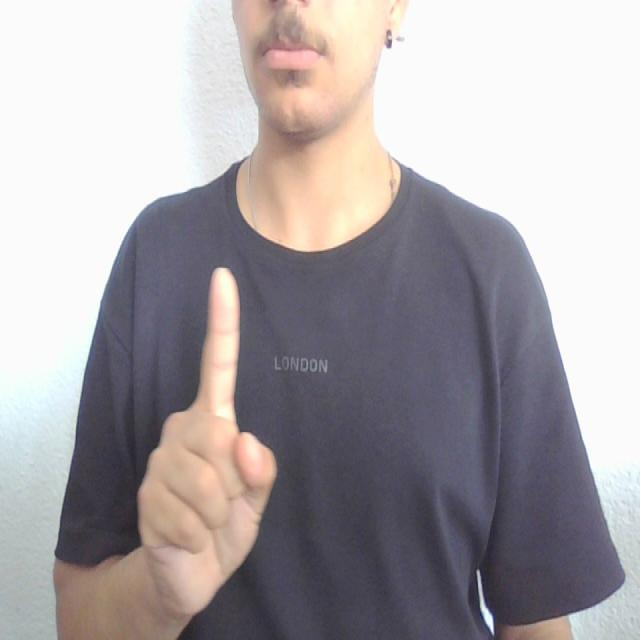Hayir: (119, 252, 288, 632)
